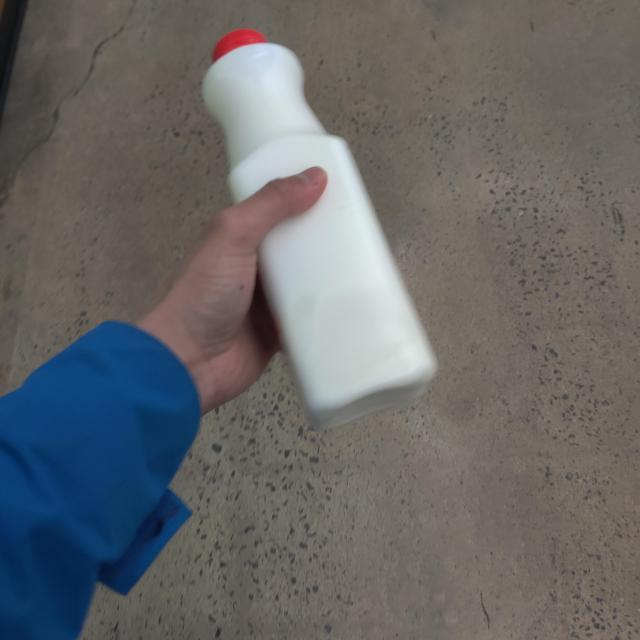Milk: (203, 29, 440, 411)
